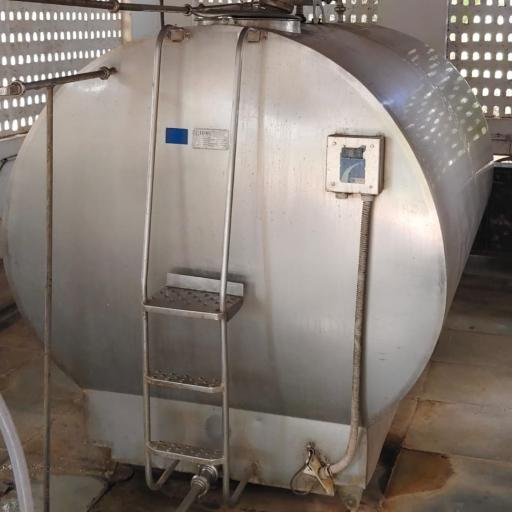silo: (2, 2, 493, 495)
